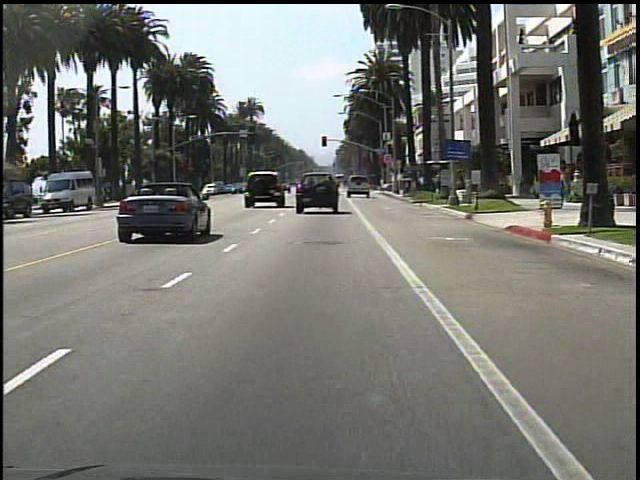person: (547, 171, 564, 211)
